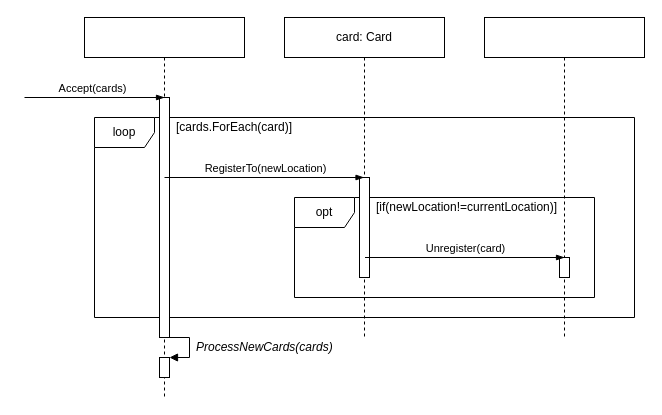
This 662x415 diagram has some shape labels left out. Each missing label, with the box of its shape:
currentLocation: CardZone: (484, 16, 644, 338)
newLocation: CardZone: (84, 16, 244, 398)
